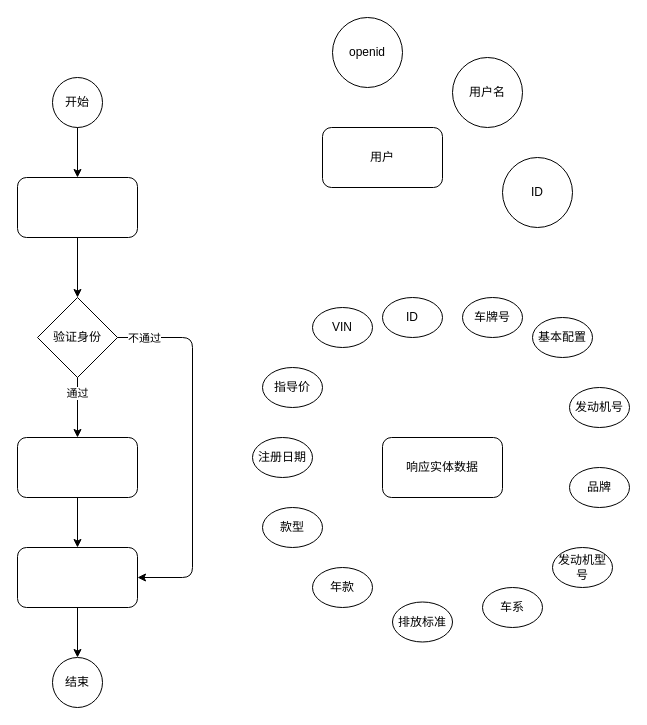
The diagram is 647 pixels wide and 725 high, and some of its shapes have lost their labels. Each missing label, with the centre of its shape:
"后续处理" belongs at point 77,467.
"响应请求" belongs at point 77,577.
"接受请求" belongs at point 77,207.
